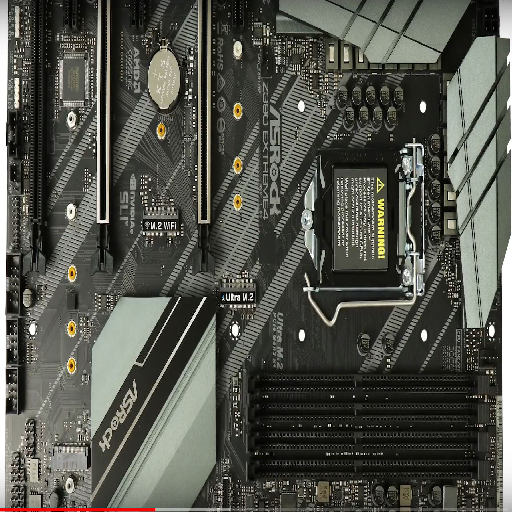CPU: (301, 141, 424, 298)
GPU: (190, 1, 217, 275), (90, 1, 115, 275)
MOTHERBOARD: (6, 1, 502, 507)
RAM: (241, 357, 494, 485)
SSD: (142, 204, 182, 243), (216, 277, 259, 313)
